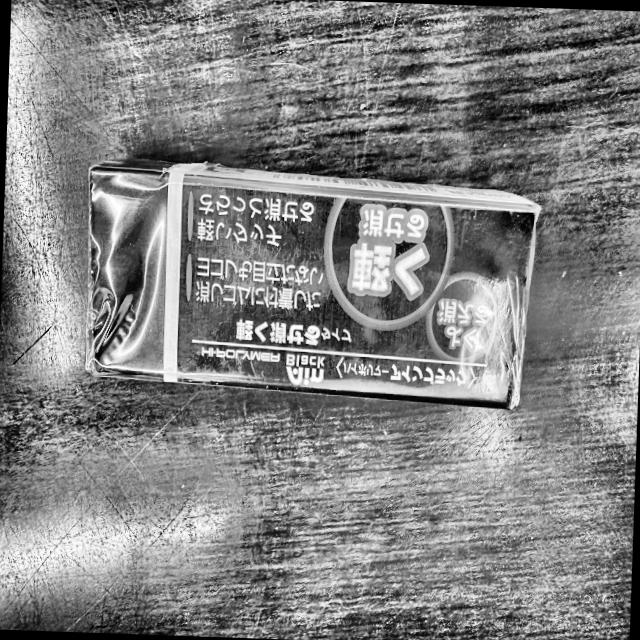eraser: (58, 140, 576, 416)
